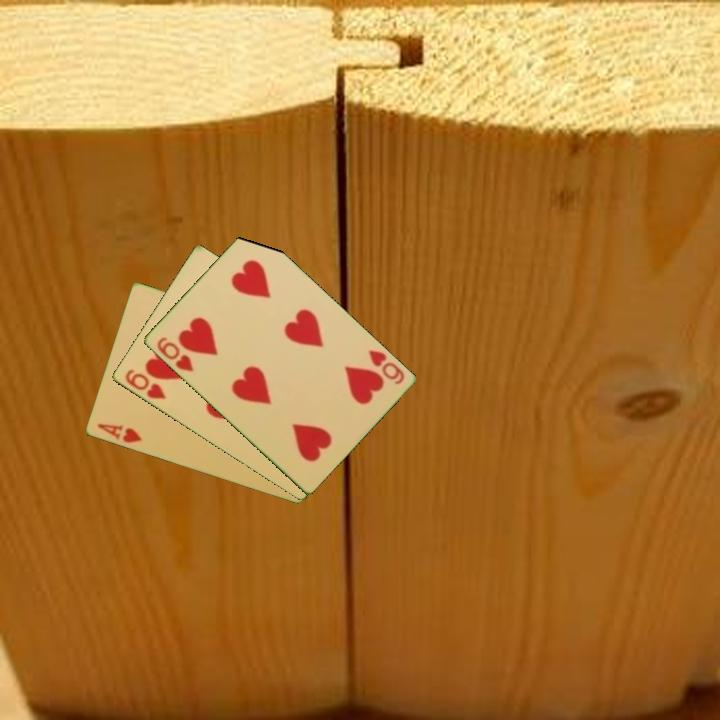6h: (153, 333, 196, 375), (364, 346, 407, 387), (121, 366, 168, 402)
Ah: (93, 420, 145, 446)
